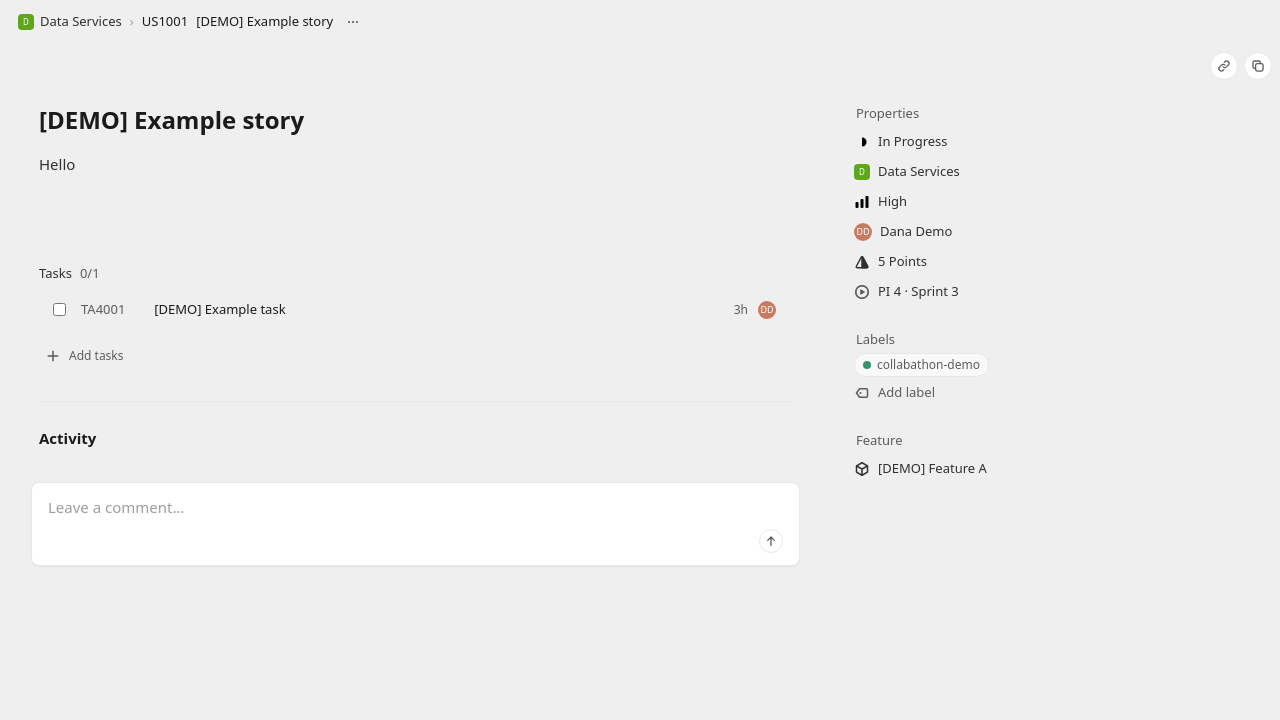
Add tasks opens a title row; Enter creates it and keeps the row open
Click the button "Add tasks" at (84, 356), box [39,344,130,368]
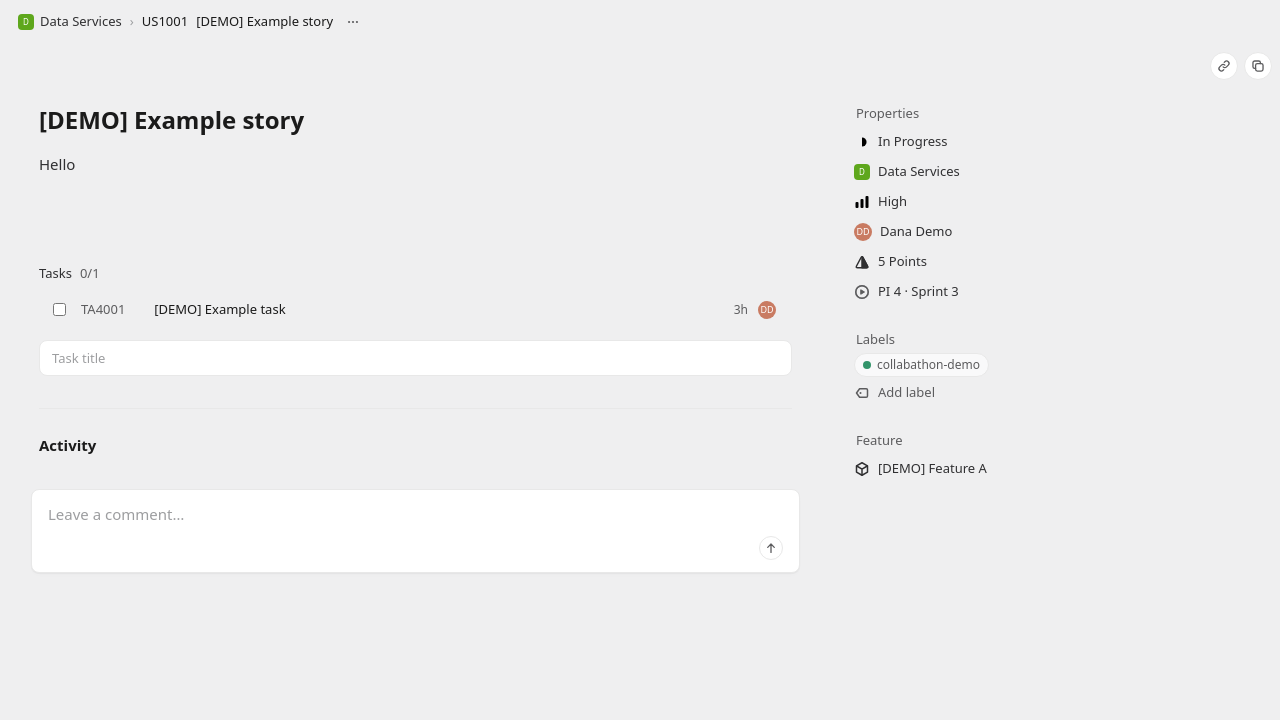
Expected: the text "TA4001" is shown, [81,300,125,318]
Expected: the field labelled "Task title" is empty
Type "[DEMO] Step two" into the field labelled "Task title" at (416, 358), box [39,340,792,376]
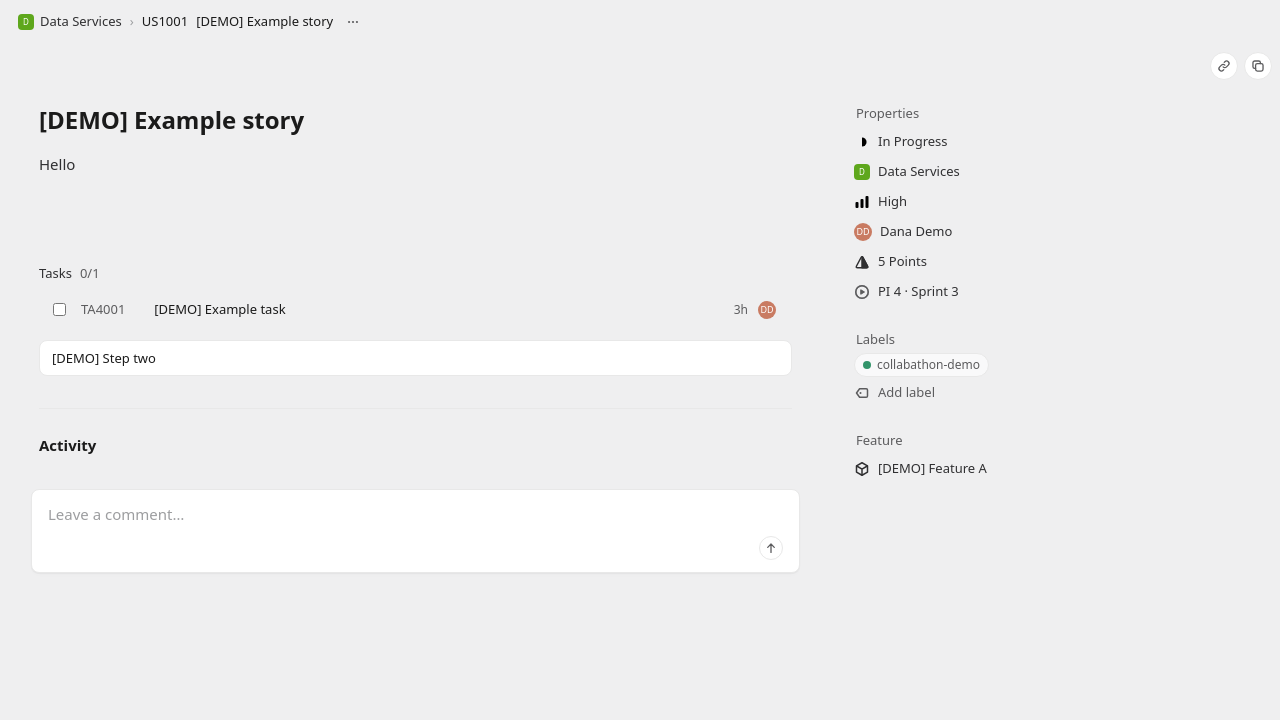
Press Enter in the field named "Task title", box [39,340,792,376]
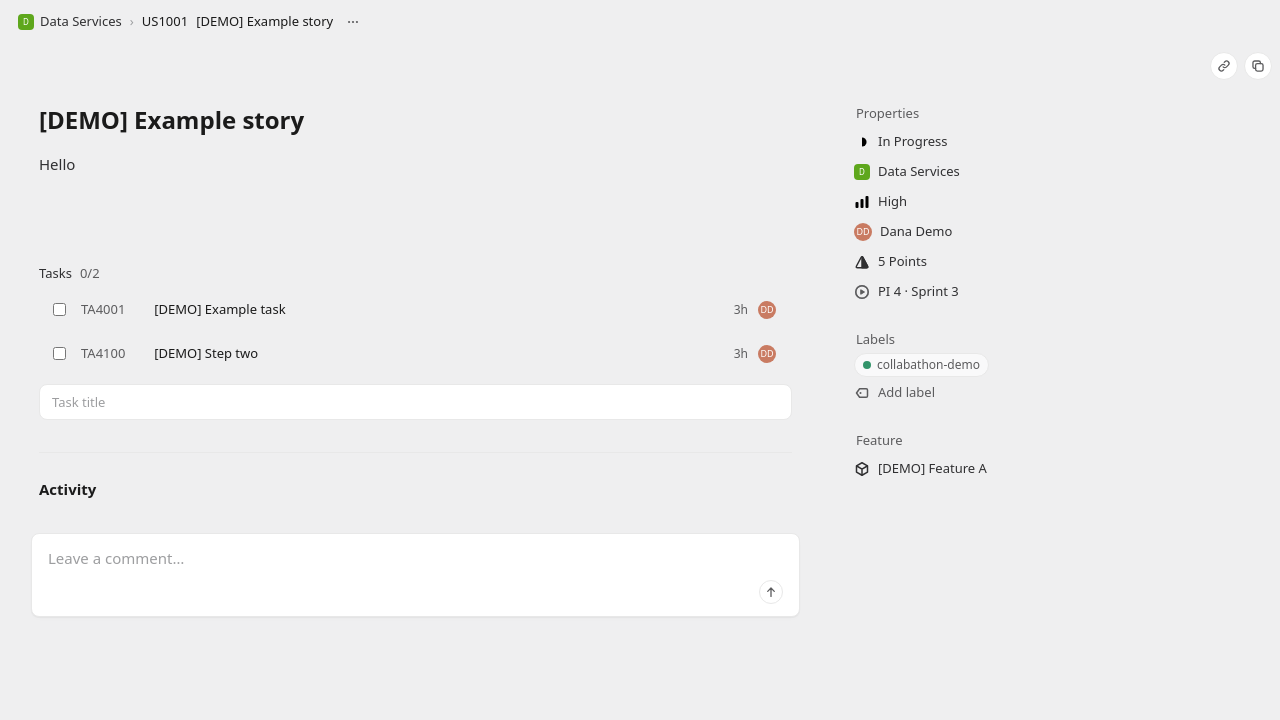
Expected: the text "[DEMO] Step two" is shown, [154,344,258,362]
Expected: the field labelled "Task title" is empty, [39,384,792,420]
